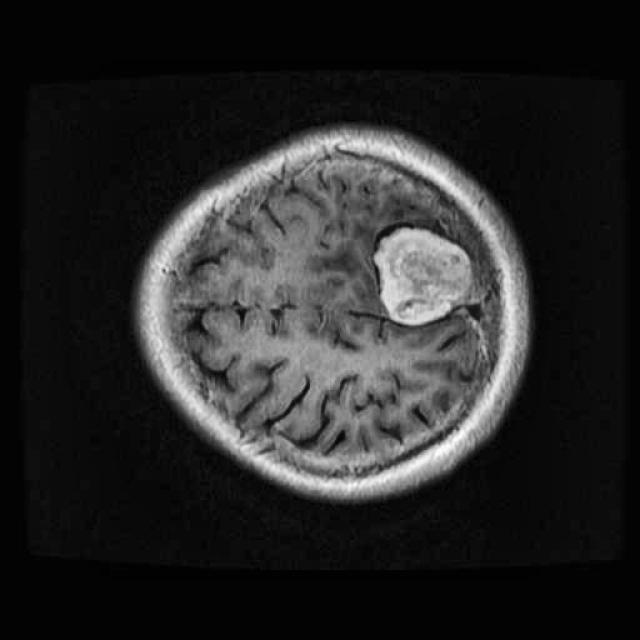Tumor: (366, 214, 491, 336)
